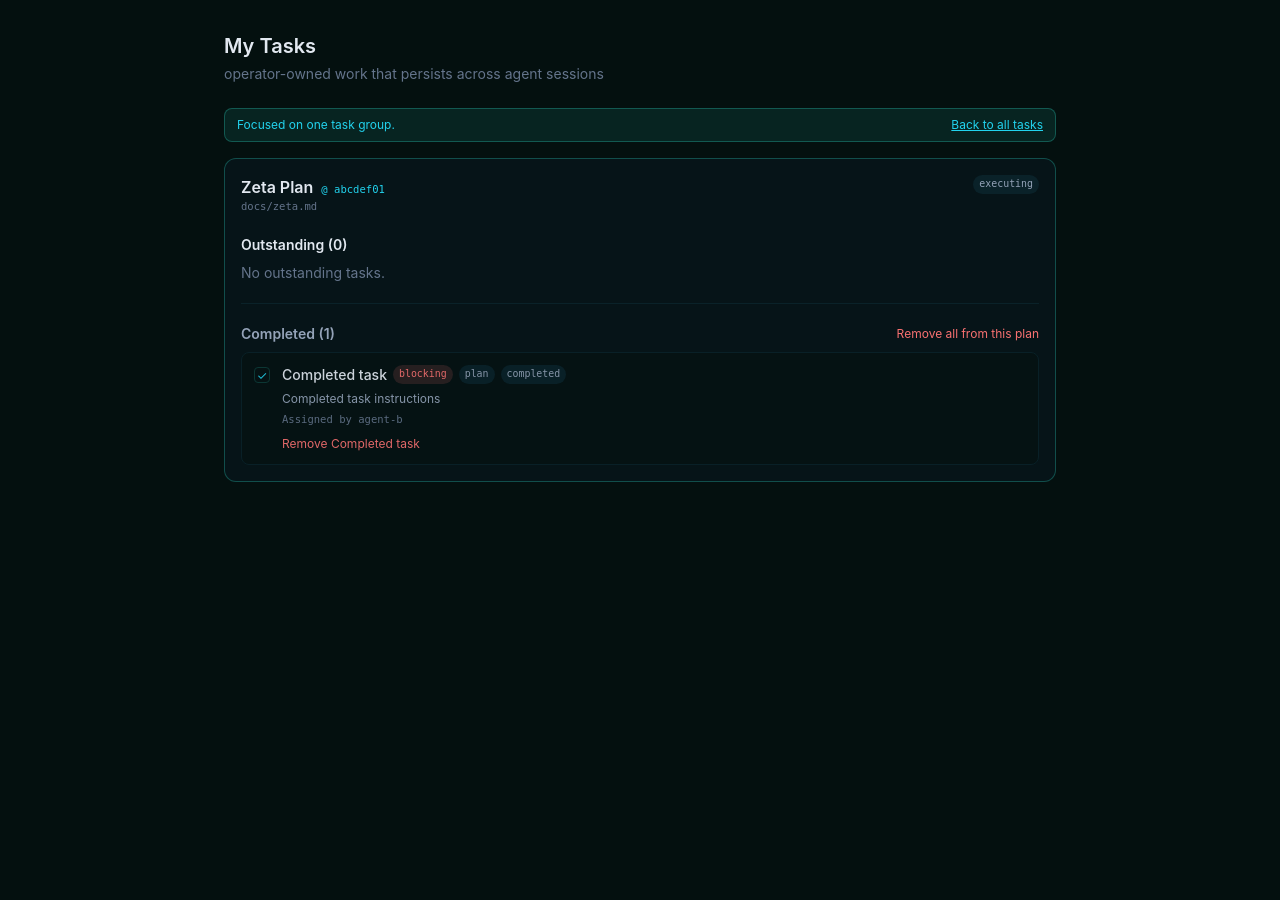
Test: MyTasks › removes the last plan task while retaining an actionable empty focus
Click the button "Remove Completed task": (351, 444) top-left (282, 436), bottom-right (420, 452)
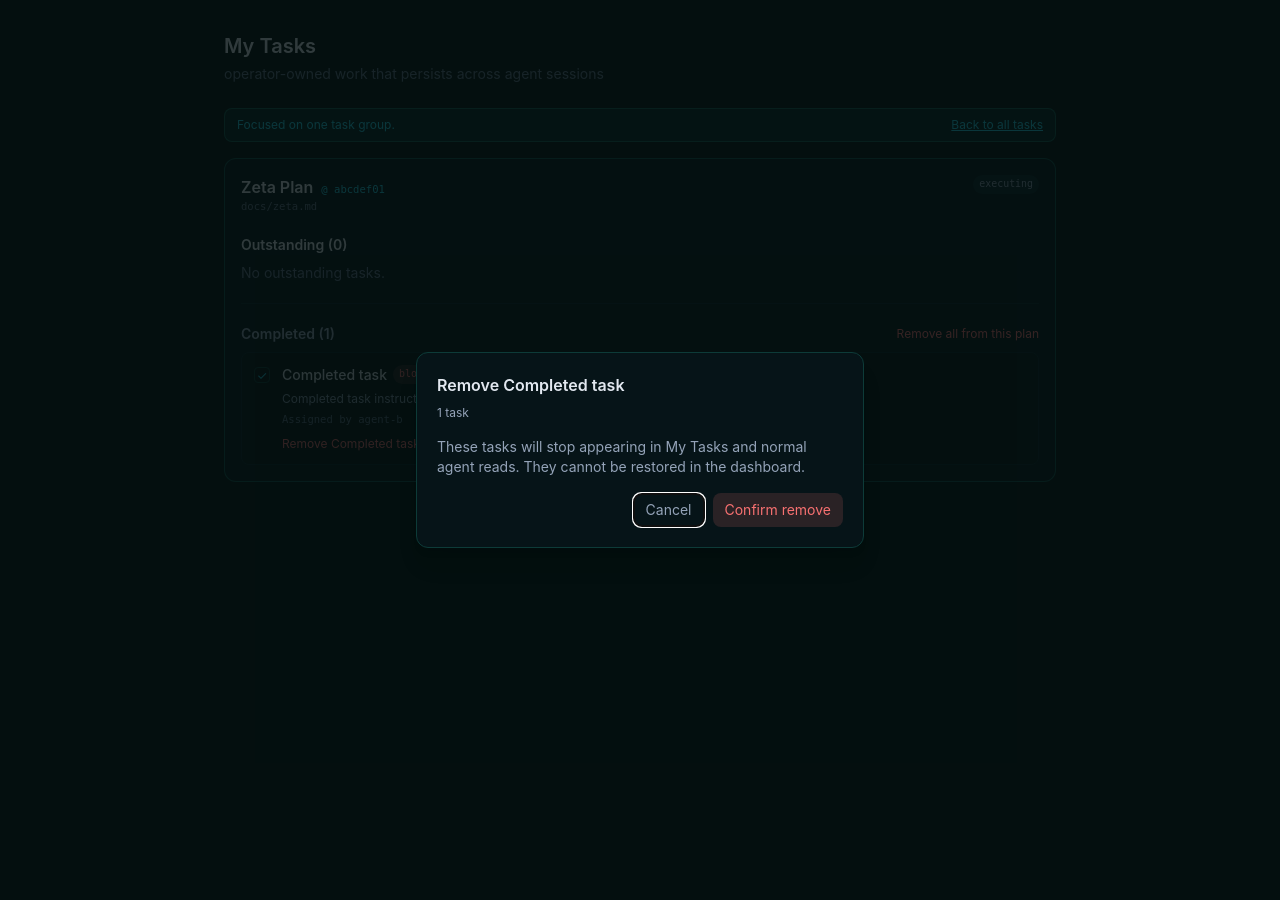
Click the button "Confirm remove": (778, 510) top-left (712, 493), bottom-right (843, 527)
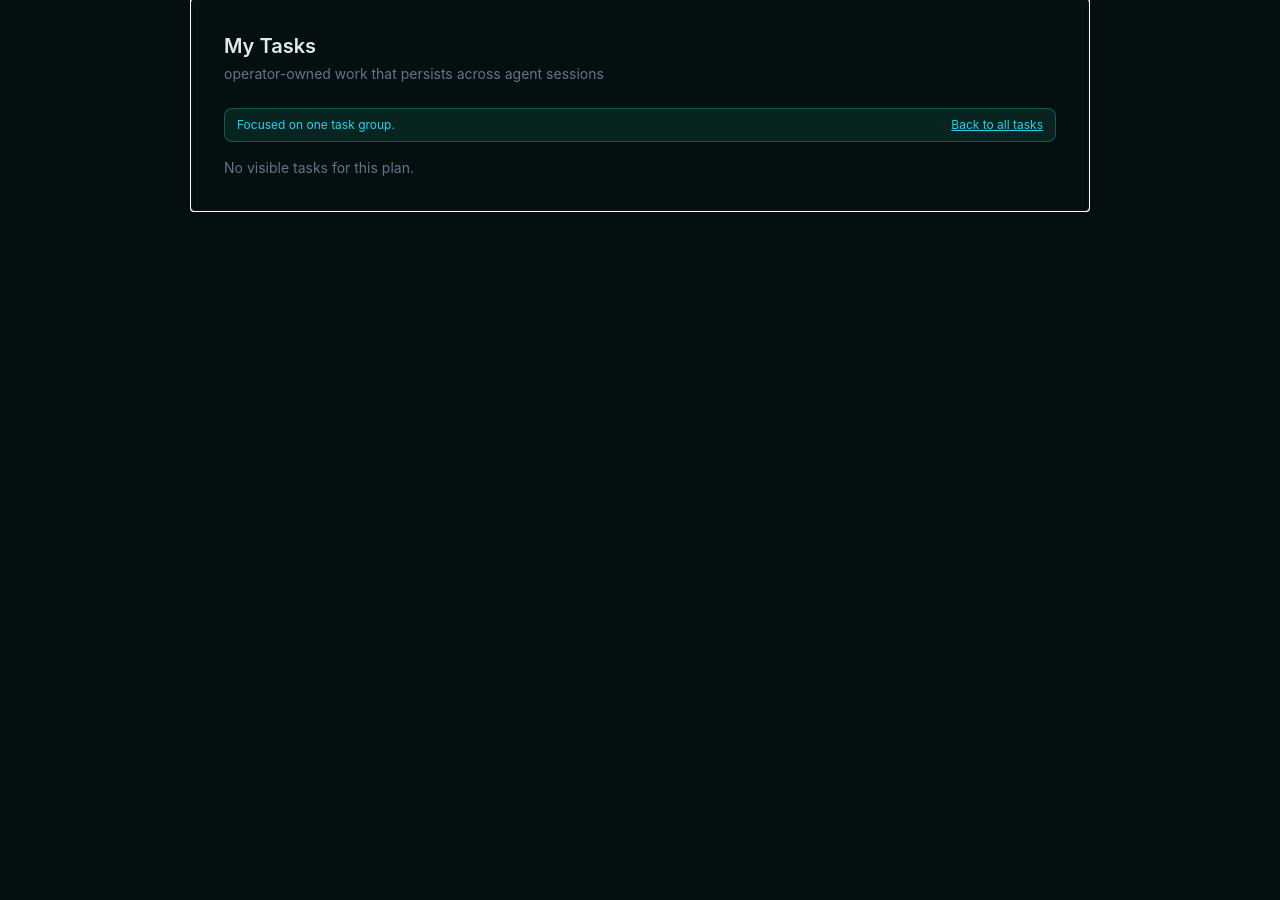
Expected: the button "Back to all tasks" is shown, top-left (951, 117), bottom-right (1043, 133)
Now the text "No visible tasks for this plan." is shown, box top-left (224, 159), bottom-right (414, 176)
